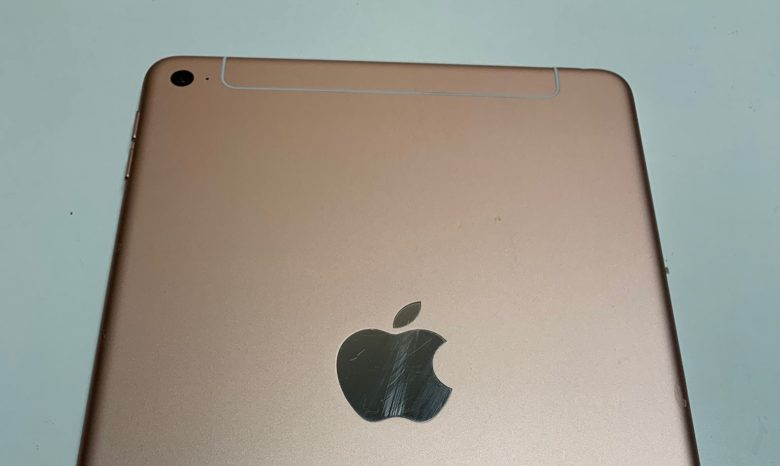apple: (334, 290, 473, 436)
